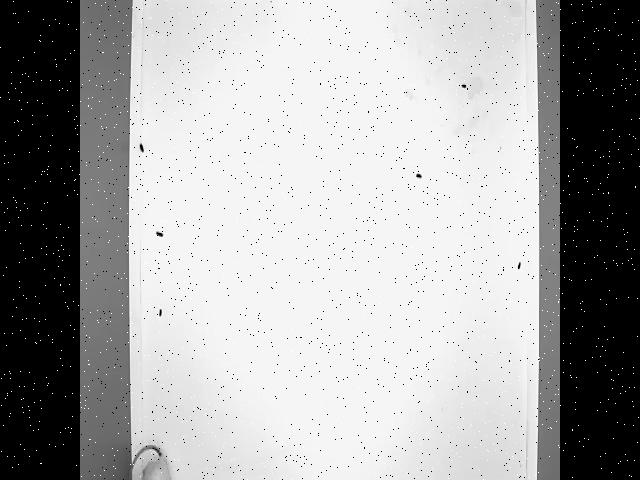Tikus: (130, 442, 174, 480)
